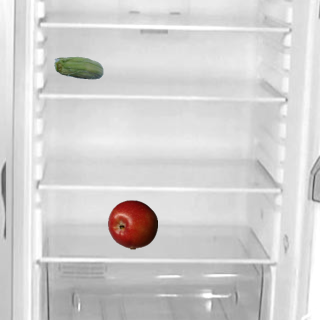Apple Braeburn: (107, 199, 157, 249)
Corn Husk: (53, 44, 103, 94)
